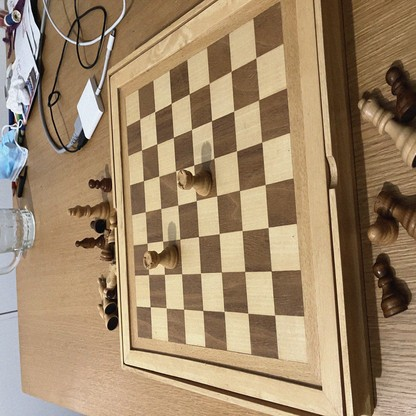bishop_black: (75, 237, 107, 248)
king_white: (68, 204, 109, 219)
pawn_black: (374, 261, 406, 317), (386, 68, 416, 124), (89, 180, 113, 192)
pawn_white: (368, 220, 397, 243)
queen_white: (358, 98, 416, 173)
rock_black: (374, 192, 416, 239)
rock_white: (177, 170, 212, 197), (143, 247, 177, 269)
